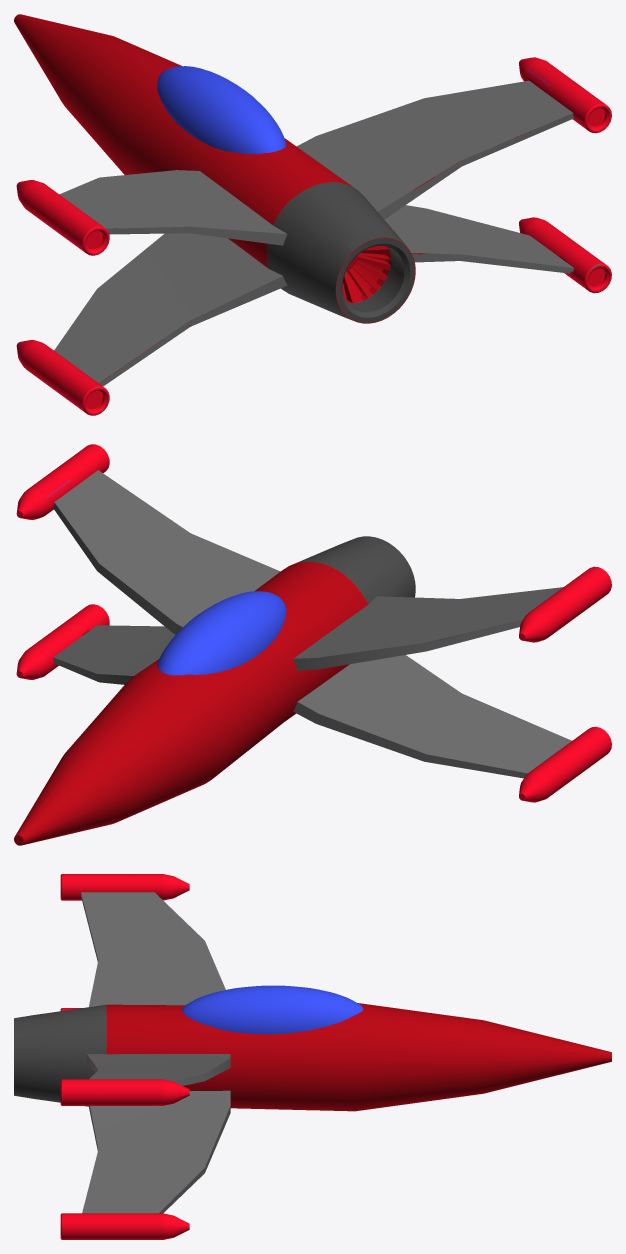
Rendered from enemy_ship.obj.
3 views of the same model, one above another, from view 1: azimuth 30°, elevation 25°; view 2: azimuth 150°, elevation 25°; view 3: azimuth 270°, elevation 25° (orthographic). The views are drawn at different scales.
Visible parts, largest first — view 1: Cylinder; view 2: Cylinder; view 3: Cylinder.
Boxes of the visible parts, left/top/right/bottom form: Cylinder: left=14, top=14, right=611, bottom=415; Cylinder: left=14, top=444, right=611, bottom=845; Cylinder: left=14, top=874, right=611, bottom=1239.
Bounding box in the file's own units: 9.42 × 3.21 × 11.
